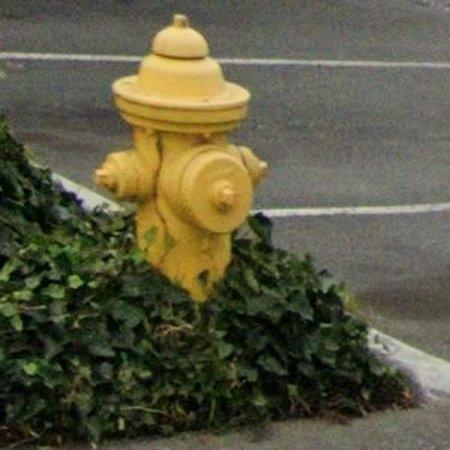a fire hydrant: (96, 14, 268, 302)
